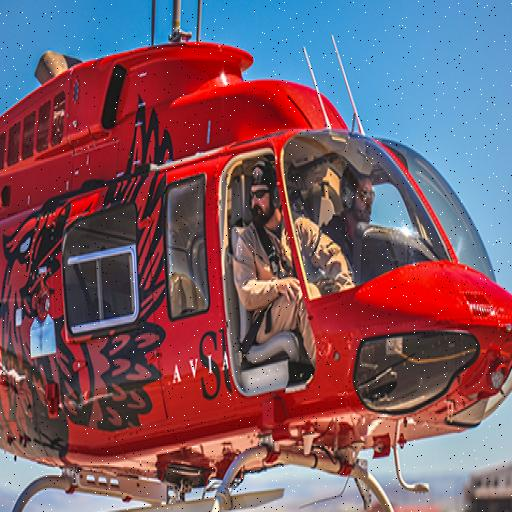helicopter: (1, 7, 512, 512)
